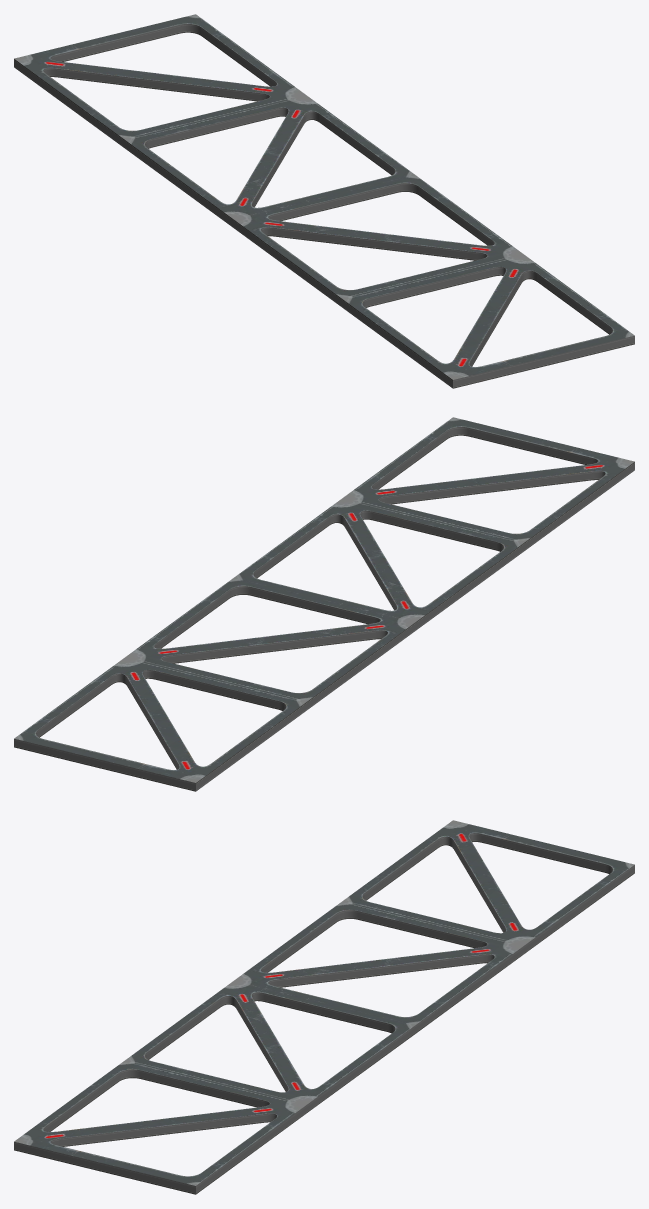
Rendered from Column_MetalSupport.glb.
3 renders of one model, top to bottom at view 1: azimuth 30°, elevation 25°; view 2: azimuth 150°, elevation 25°; view 3: azimuth 330°, elevation 25°, orthographic.
Parts seen in each view (by area): view 1: Column_MetalSupport; view 2: Column_MetalSupport; view 3: Column_MetalSupport.
Part boxes in pixels (left/top/right/bottom): Column_MetalSupport: left=14, top=14, right=634, bottom=388; Column_MetalSupport: left=14, top=417, right=634, bottom=791; Column_MetalSupport: left=14, top=820, right=634, bottom=1194.
Bounding box in the file's own units: 0.9566 × 0.0439 × 4.
2 materials, 2 textured.
